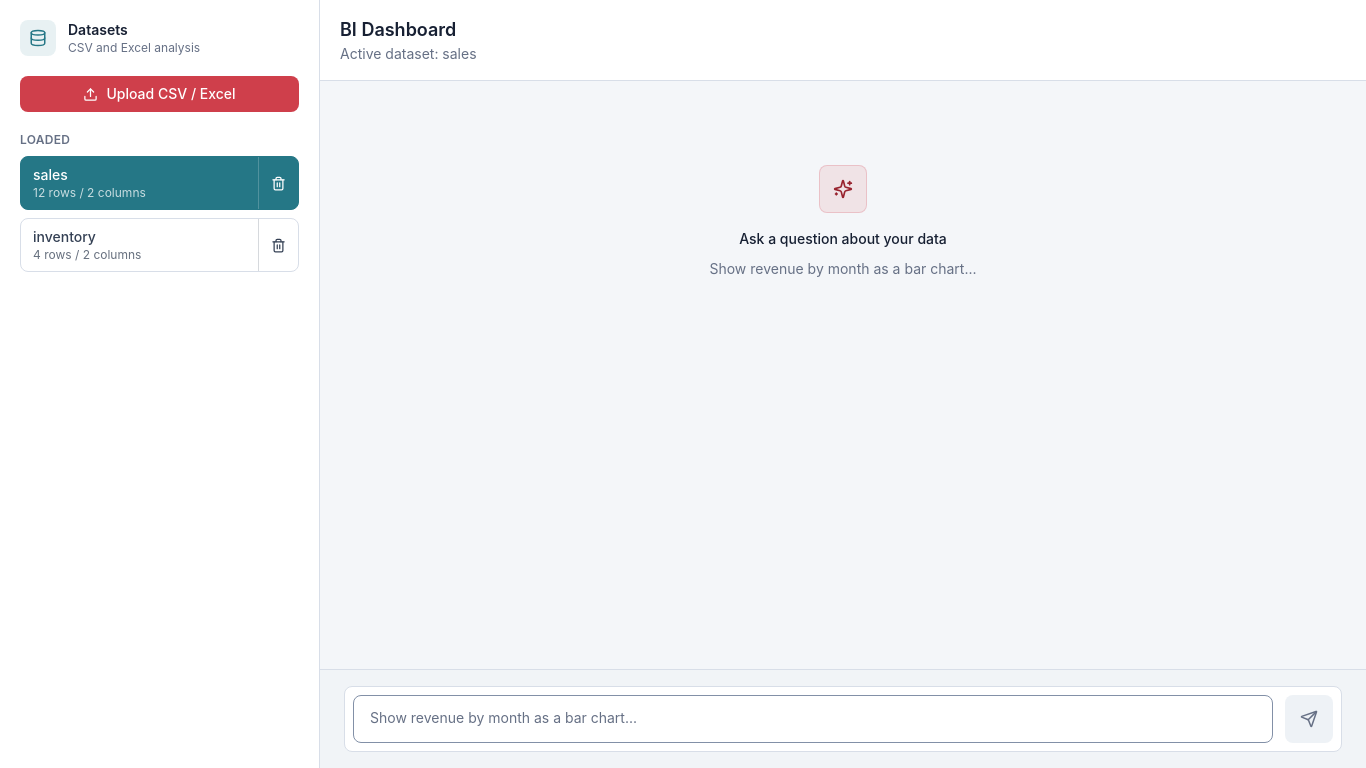
Test: BI dashboard › offers a real retry after a delete failure
Expected: the text "Active dataset: sales" is shown, [340,45,477,62]
Click the button named "Delete sales".
click(278, 183)  # box [258,157,298,209]
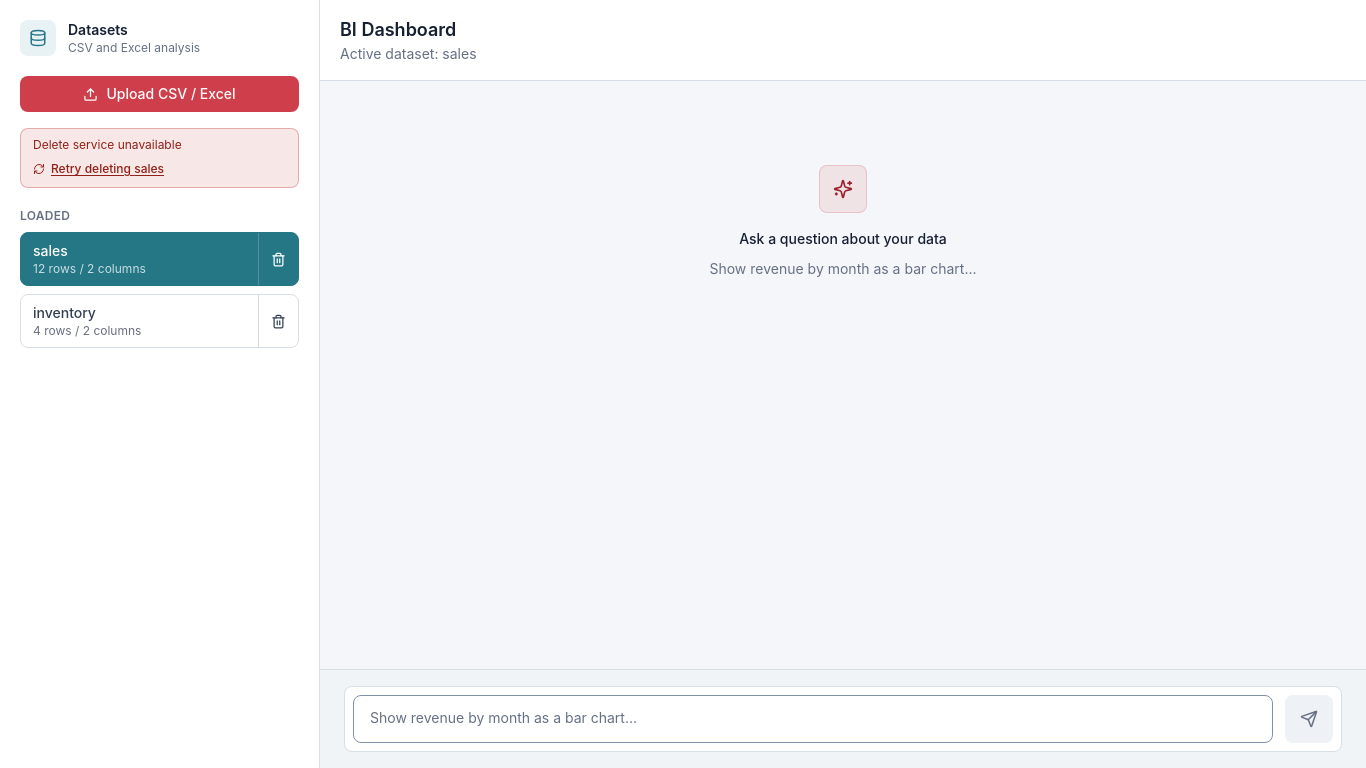
Expected: the text "Delete service unavailable" is shown, [33,137,182,152]
Click the button "Retry deleting sales".
click(98, 169)  # box [33,161,164,177]
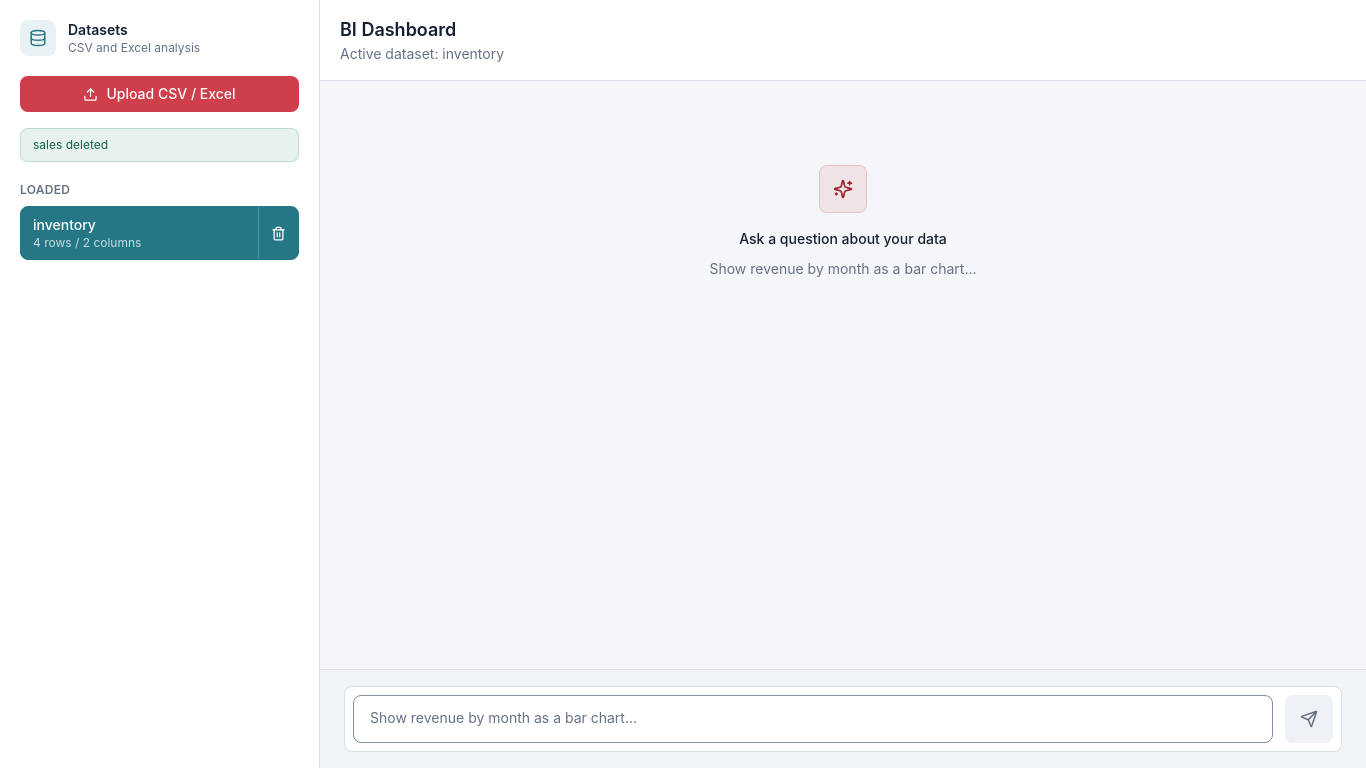
Expected: the text "sales deleted" is shown, [20,128,299,162]
